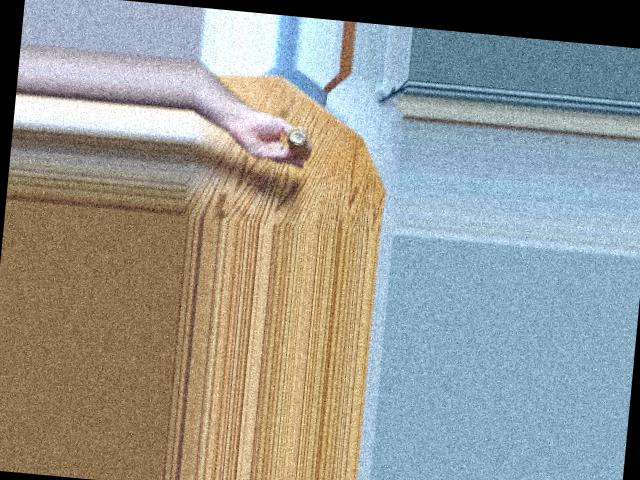sweet_potato: (276, 121, 318, 163)
